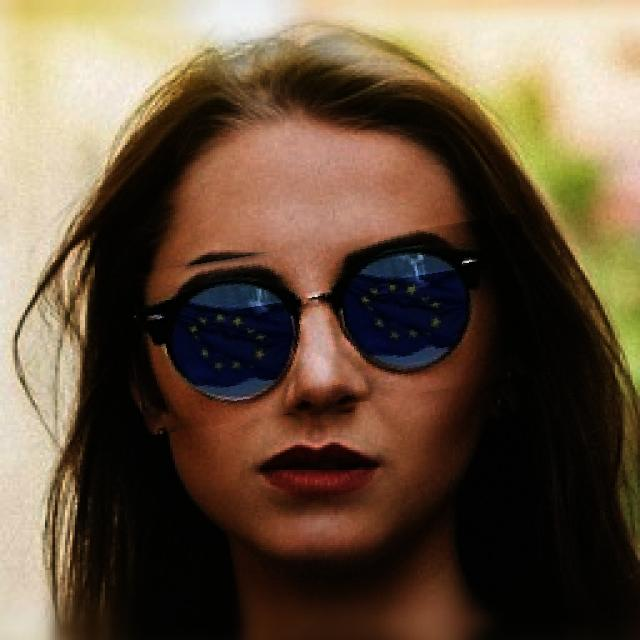glasses: (126, 229, 540, 421)
